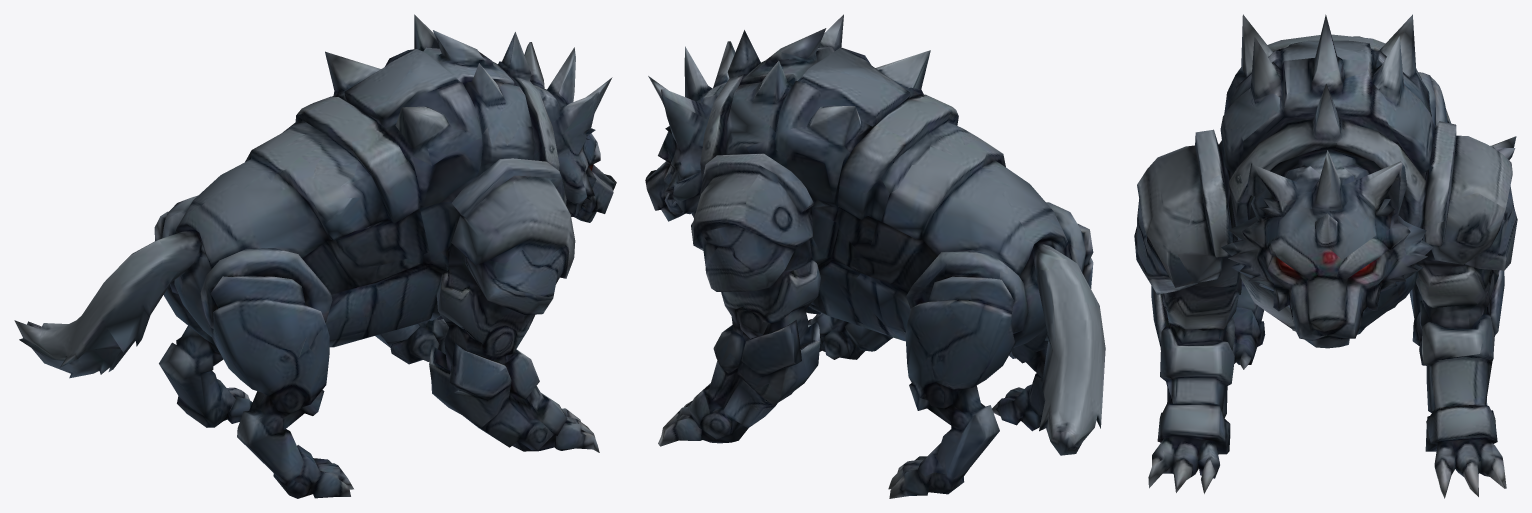
The model's file is mecha_wolf.lite.glb.
3 renders of one model, left to right at view 1: azimuth 30°, elevation 25°; view 2: azimuth 150°, elevation 25°; view 3: azimuth 270°, elevation 25°, orthographic. The views are drawn at different scales.
Visible parts, largest first — view 1: tripo_node_146f3bec-c631-42db-9b09-8a3ec551f468; view 2: tripo_node_146f3bec-c631-42db-9b09-8a3ec551f468; view 3: tripo_node_146f3bec-c631-42db-9b09-8a3ec551f468.
Part boxes in pixels (box(x1,y1,x2,y2)): tripo_node_146f3bec-c631-42db-9b09-8a3ec551f468: box(14, 14, 616, 498); tripo_node_146f3bec-c631-42db-9b09-8a3ec551f468: box(645, 14, 1105, 498); tripo_node_146f3bec-c631-42db-9b09-8a3ec551f468: box(1134, 14, 1517, 498).
Size of the model in its own units: 1 by 0.7215 by 0.5791.
Materials: 1 (1 with a texture image).
